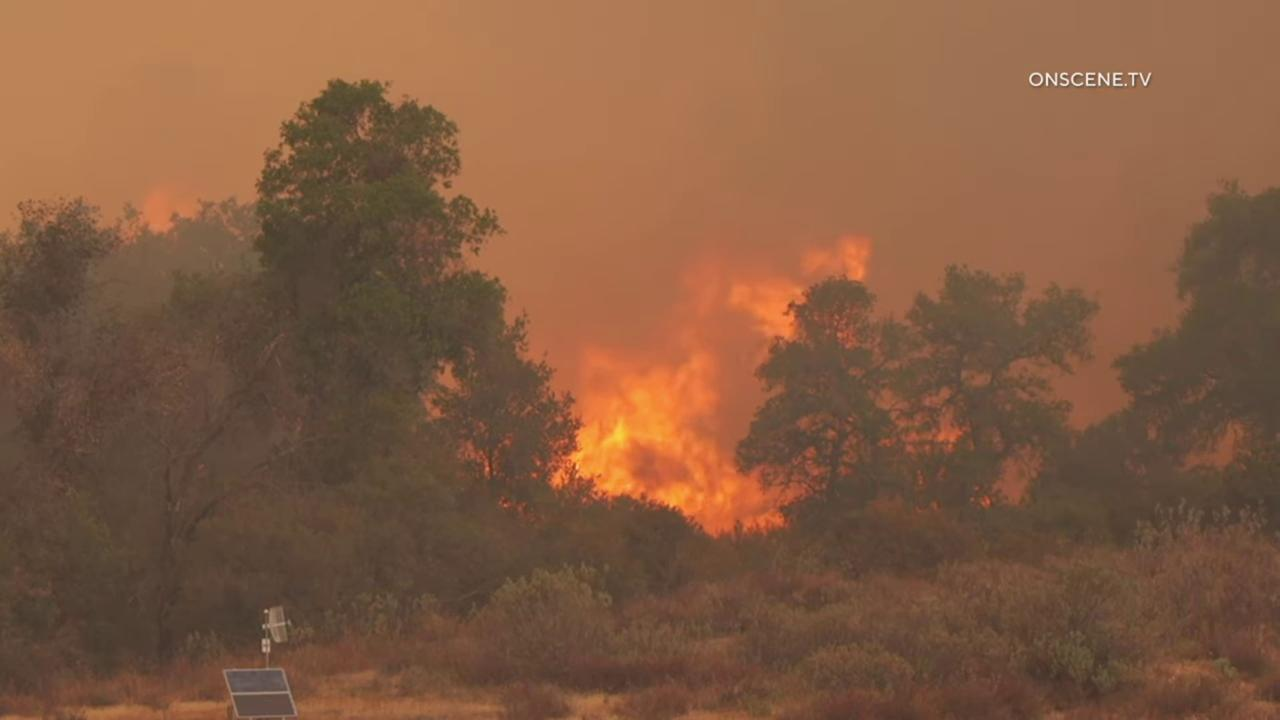fire: (529, 227, 877, 543), (883, 392, 996, 510)
smoke: (0, 0, 1280, 546)
